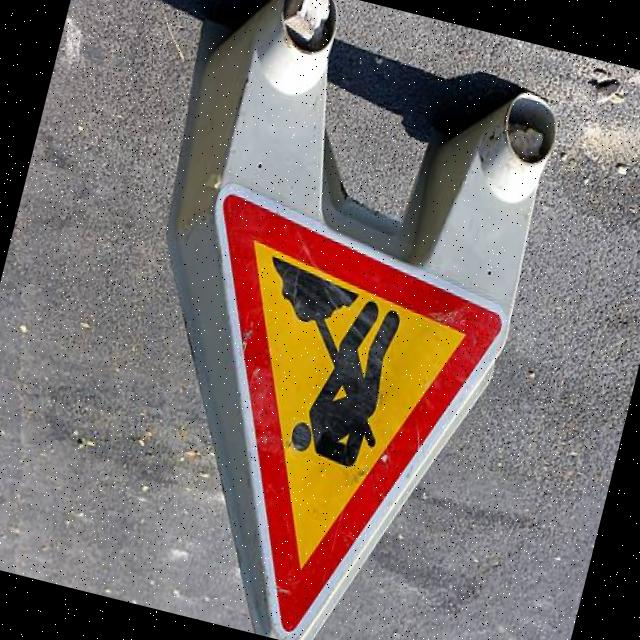road_work: (106, 191, 521, 640)
